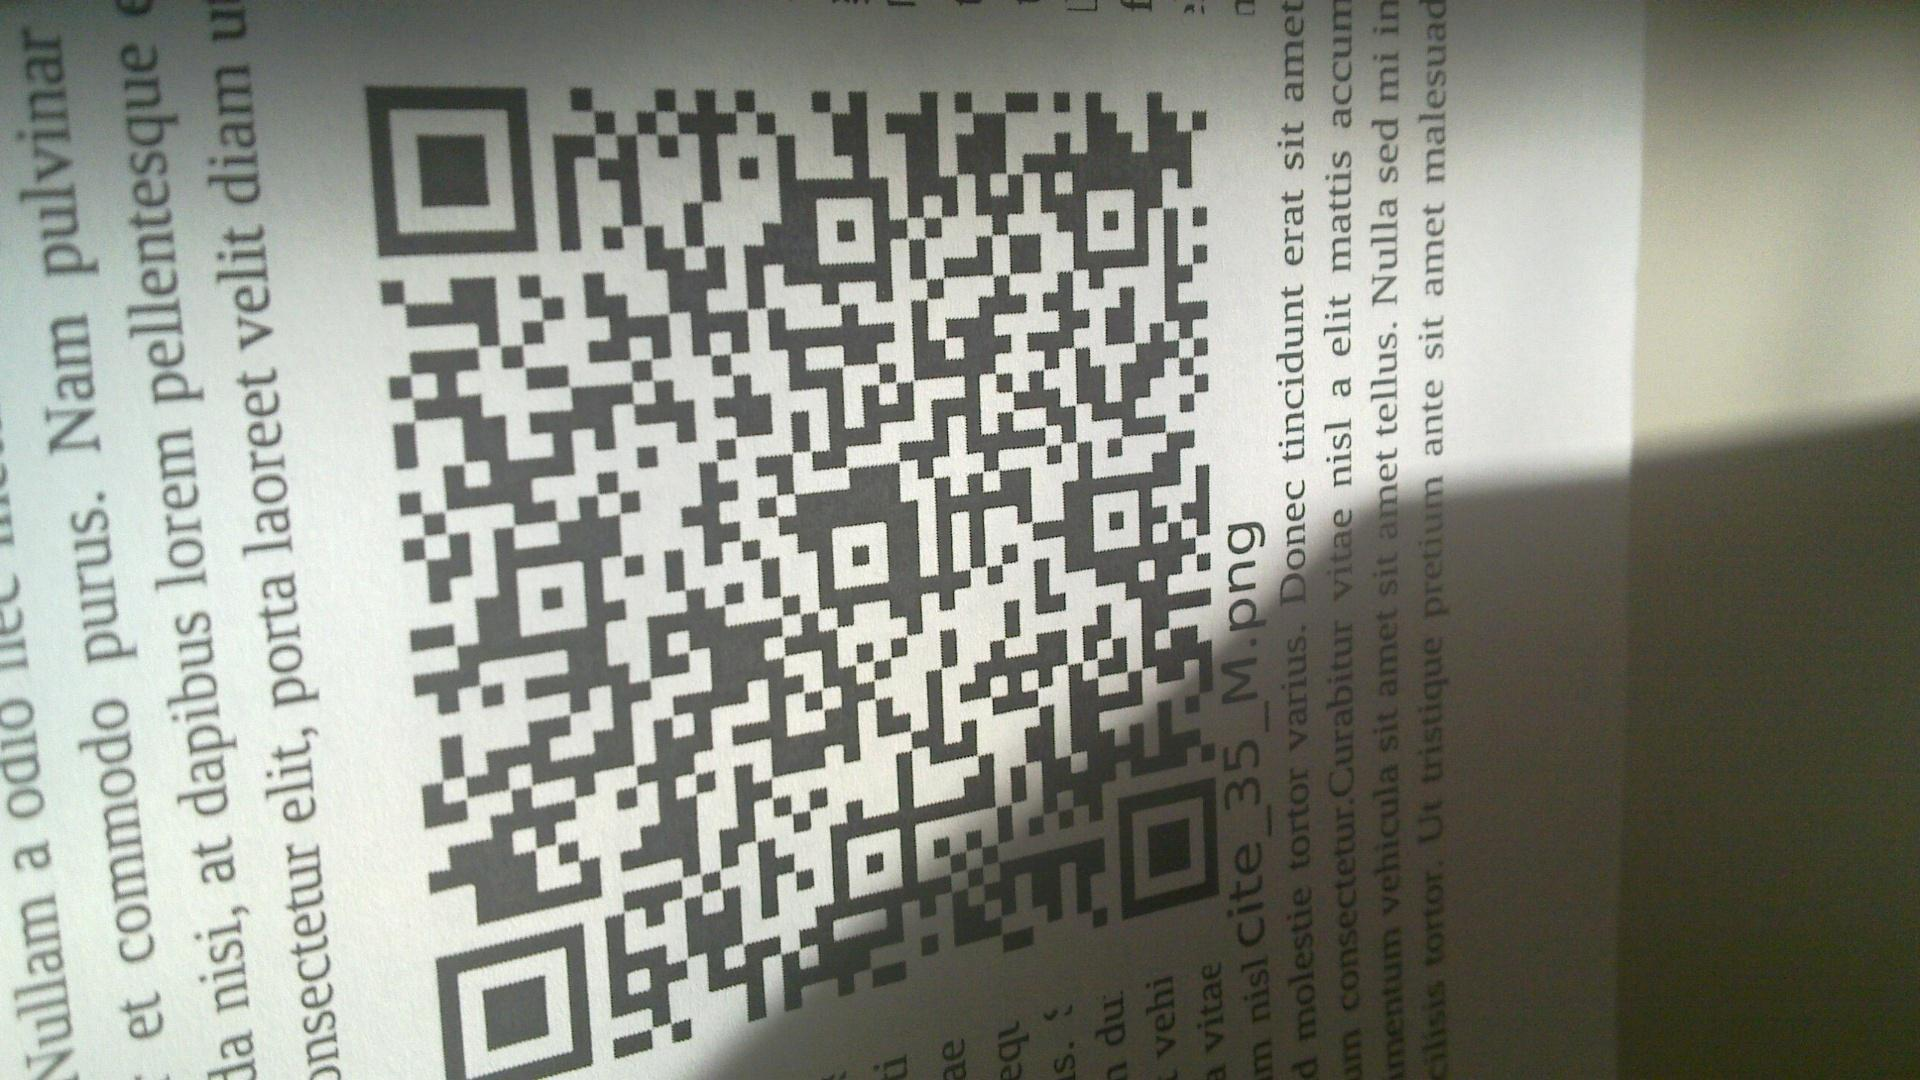Finder pattern: (353, 74, 546, 261), (425, 936, 597, 1079), (1112, 785, 1220, 915)
